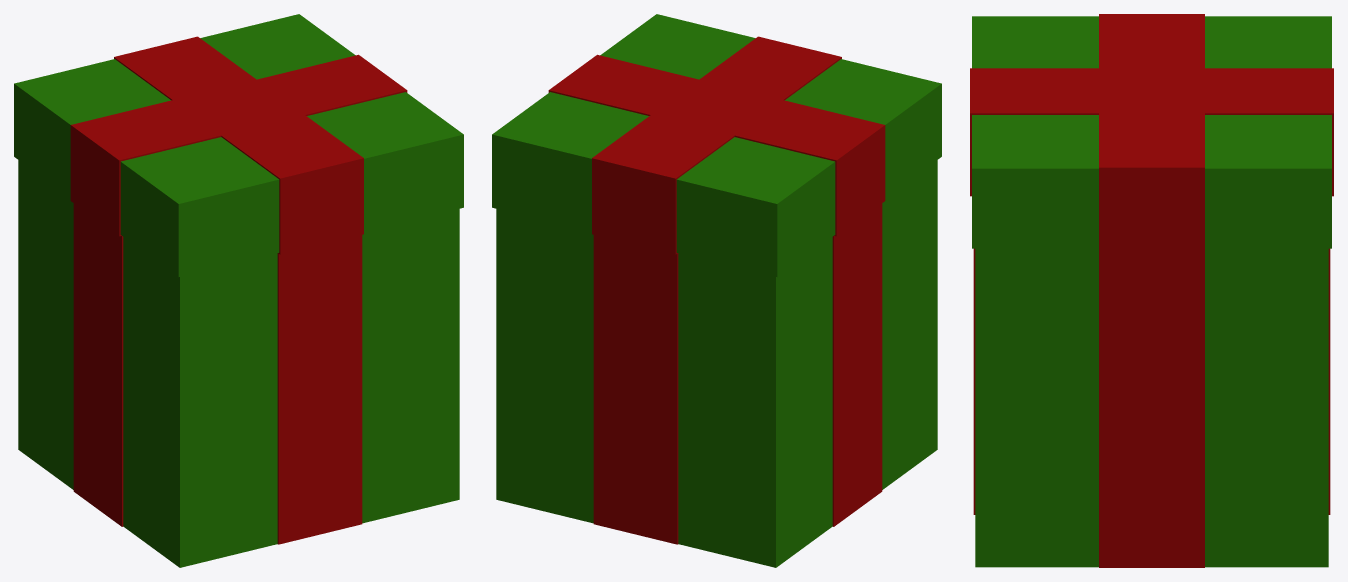
File: Present2.fbx
The picture shows the model from 3 angles, left to right: view 1: azimuth 30°, elevation 25°; view 2: azimuth 150°, elevation 25°; view 3: azimuth 270°, elevation 25°; orthographic projection. The views are drawn at different scales.
Parts seen in each view (by area): view 1: Cube, Plane.002, Cube.001; view 2: Cube, Plane.002, Cube.001; view 3: Cube, Plane.002, Cube.001.
Part boxes in pixels (bbox=[...]): Cube: bbox=[18, 160, 459, 567]; Plane.002: bbox=[70, 36, 407, 544]; Cube.001: bbox=[14, 14, 463, 276]; Cube: bbox=[496, 160, 937, 567]; Plane.002: bbox=[548, 36, 885, 544]; Cube.001: bbox=[492, 14, 941, 276]; Cube: bbox=[975, 248, 1328, 567]; Plane.002: bbox=[970, 14, 1333, 567]; Cube.001: bbox=[972, 16, 1331, 248].
Size of the model in its own units: 206 by 251 by 206.
